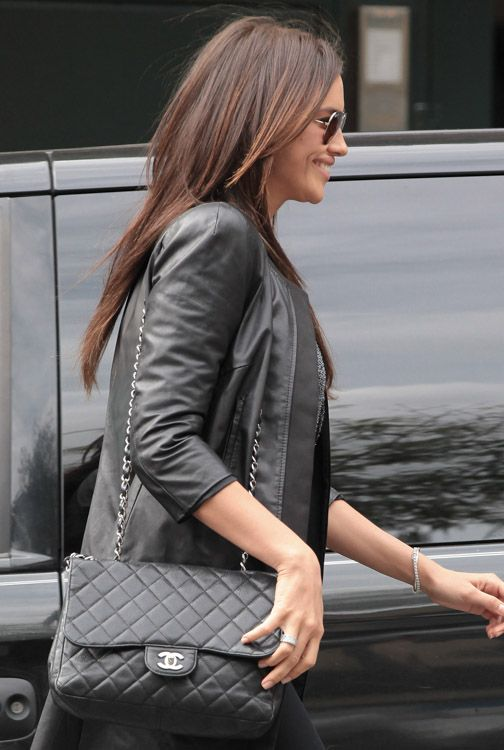channel: (55, 546, 305, 724), (140, 649, 193, 675)
